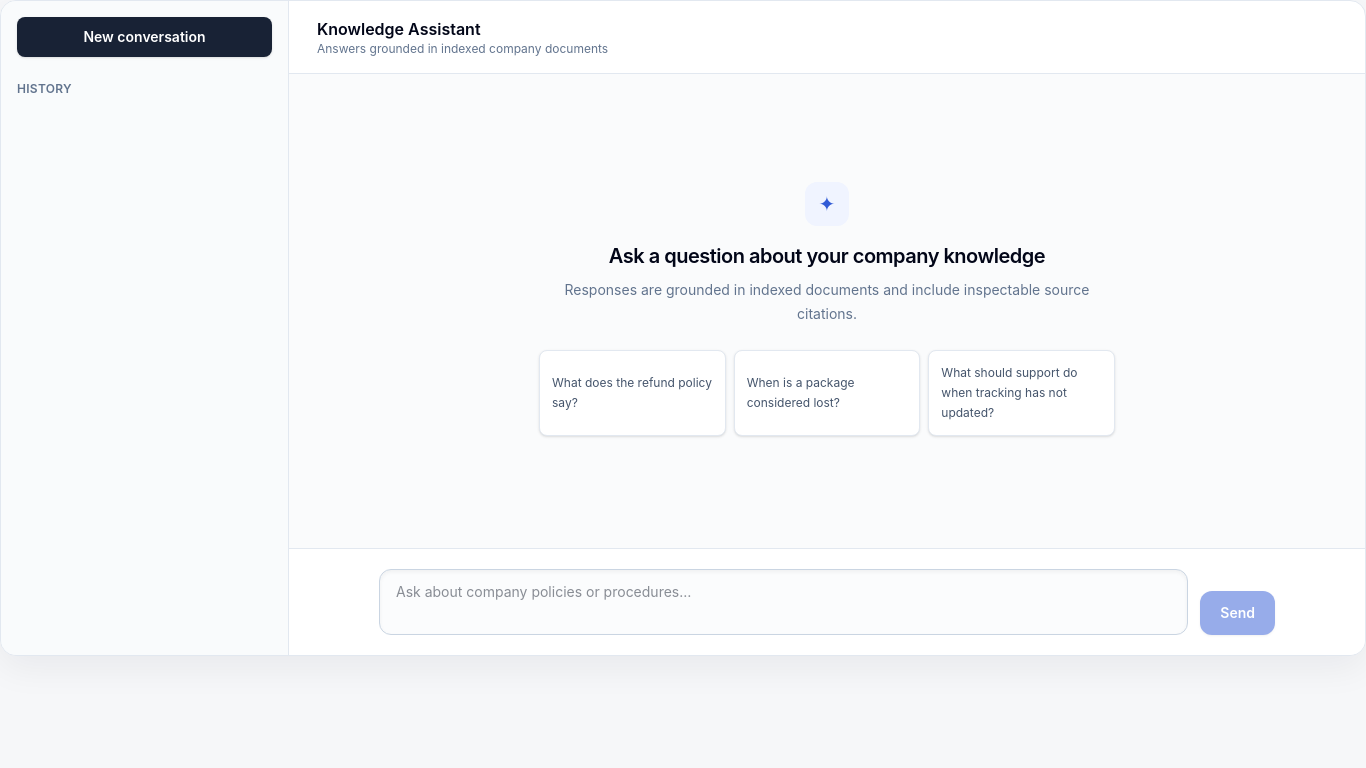
AssistantWorkspace › shows a loading state while generating
The image size is (1366, 768).
Type "What is the policy?" into the text box named "Ask a question".
click(784, 602); type("What is the policy?")  # box x1=379 y1=569 x2=1188 y2=635
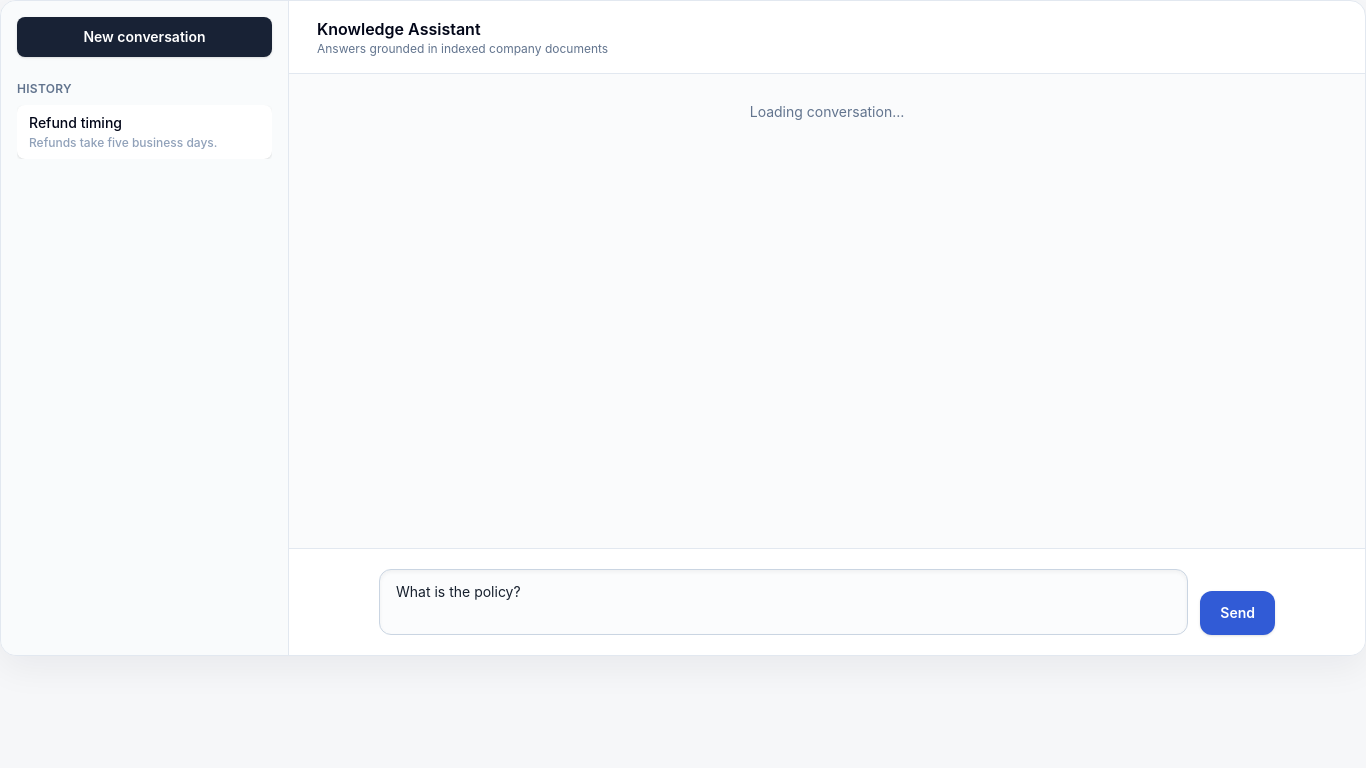
Click the button "Send".
click(1238, 613)  # box x1=1200 y1=591 x2=1275 y2=635
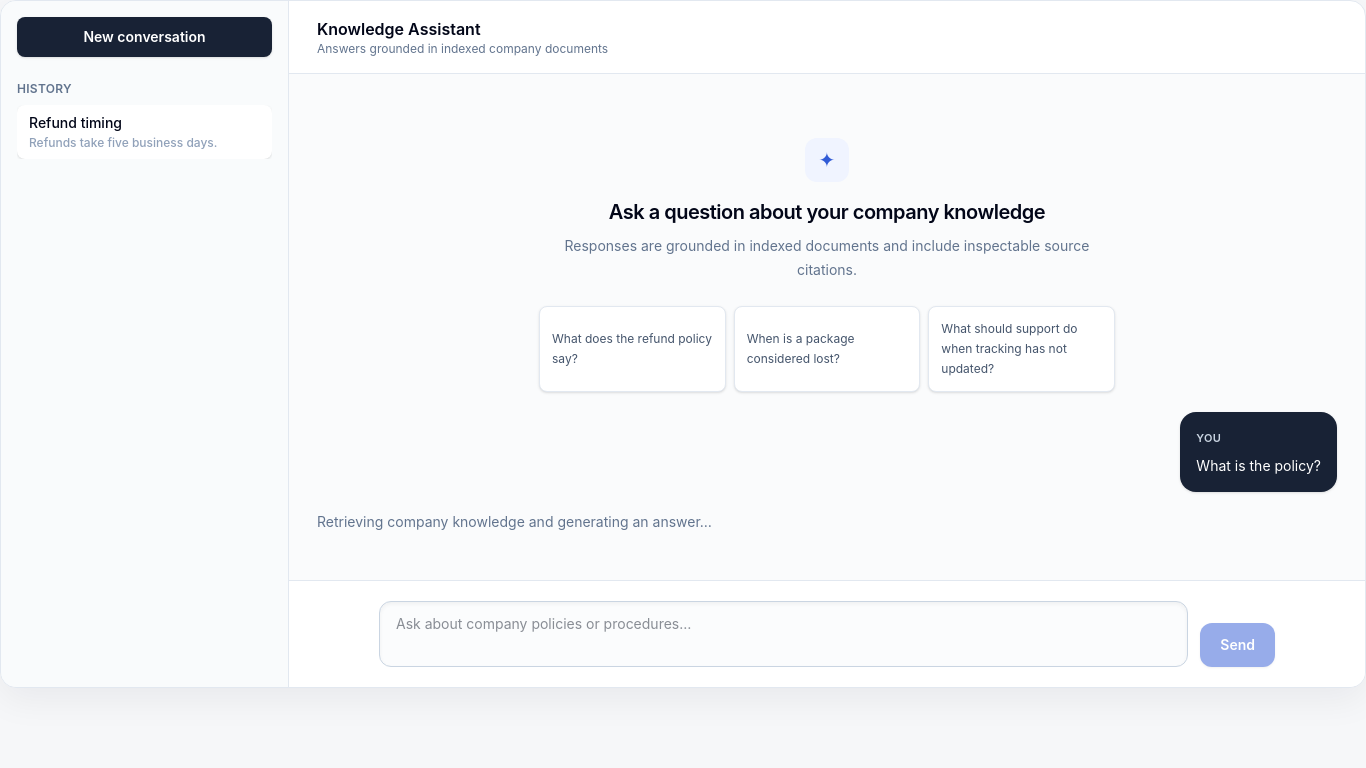
Now the message shows "Retrieving company knowledge", box x1=317 y1=513 x2=712 y2=530
Now the text "What is the policy?" is shown, box x1=1196 y1=454 x2=1321 y2=478
